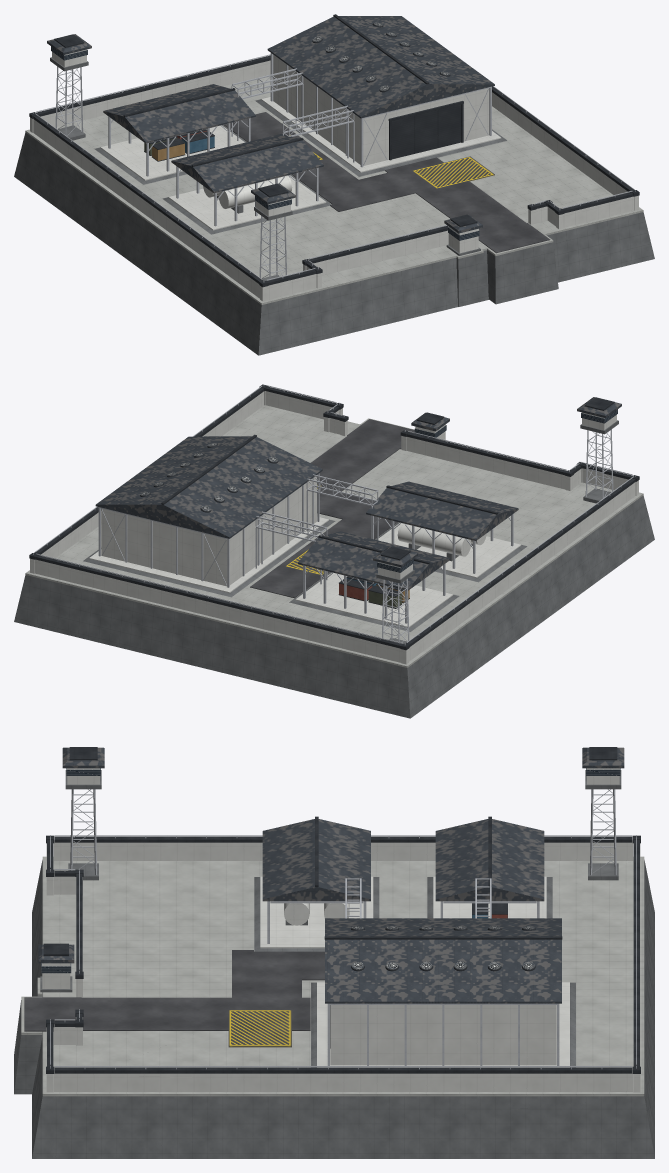
File: logistics_camp_lvl2.glb
3 views of the same model, one above another, from view 1: azimuth 30°, elevation 25°; view 2: azimuth 150°, elevation 25°; view 3: azimuth 270°, elevation 25° (orthographic). The views are drawn at different scales.
Parts seen in each view (by area): view 1: LOG_L2_ConcDark, LOG_L2_ConcLight, LOG_L2_ConcMid, LOG_L2_RoofCorr, LOG_L2_Asphalt, LOG_L2_SteelDark, LOG_L2_SteelTruss, LOG_L2_DoorCorr, LOG_L2_HatchZone, LOG_L2_WindowDark, LOG_L2_RoofVent; view 2: LOG_L2_ConcDark, LOG_L2_ConcLight, LOG_L2_RoofCorr, LOG_L2_ConcMid, LOG_L2_SteelTruss, LOG_L2_SteelDark, LOG_L2_Asphalt, LOG_L2_WindowDark, LOG_L2_RoofVent; view 3: LOG_L2_ConcMid, LOG_L2_ConcDark, LOG_L2_ConcLight, LOG_L2_RoofCorr, LOG_L2_SteelDark, LOG_L2_Asphalt, LOG_L2_SteelTruss, LOG_L2_HatchZone, LOG_L2_RoofVent, LOG_L2_WindowDark.
Part boxes in pixels (x1=…): LOG_L2_ConcDark: x1=14, y1=57, x2=654, y2=355; LOG_L2_ConcLight: x1=30, y1=49, x2=638, y2=301; LOG_L2_ConcMid: x1=25, y1=76, x2=643, y2=304; LOG_L2_RoofCorr: x1=47, y1=16, x2=494, y2=233; LOG_L2_Asphalt: x1=224, y1=112, x2=550, y2=253; LOG_L2_SteelDark: x1=29, y1=14, x2=639, y2=287; LOG_L2_SteelTruss: x1=33, y1=53, x2=635, y2=282; LOG_L2_DoorCorr: x1=391, y1=104, x2=461, y2=159; LOG_L2_HatchZone: x1=288, y1=135, x2=494, y2=188; LOG_L2_WindowDark: x1=51, y1=46, x2=479, y2=240; LOG_L2_RoofVent: x1=312, y1=22, x2=449, y2=90; LOG_L2_ConcDark: x1=14, y1=420, x2=654, y2=718; LOG_L2_ConcLight: x1=30, y1=391, x2=638, y2=664; LOG_L2_RoofCorr: x1=95, y1=397, x2=621, y2=590; LOG_L2_ConcMid: x1=25, y1=405, x2=643, y2=667; LOG_L2_SteelTruss: x1=33, y1=384, x2=635, y2=645; LOG_L2_SteelDark: x1=29, y1=384, x2=639, y2=650; LOG_L2_Asphalt: x1=250, y1=419, x2=414, y2=598; LOG_L2_WindowDark: x1=377, y1=409, x2=617, y2=572; LOG_L2_RoofVent: x1=140, y1=442, x2=277, y2=511; LOG_L2_ConcMid: x1=21, y1=856, x2=644, y2=1096; LOG_L2_ConcDark: x1=14, y1=770, x2=654, y2=1158; LOG_L2_ConcLight: x1=42, y1=768, x2=640, y2=1092; LOG_L2_RoofCorr: x1=38, y1=747, x2=624, y2=1003; LOG_L2_SteelDark: x1=43, y1=747, x2=640, y2=1073; LOG_L2_Asphalt: x1=24, y1=950, x2=324, y2=1031; LOG_L2_SteelTruss: x1=50, y1=789, x2=636, y2=1069; LOG_L2_HatchZone: x1=228, y1=1009, x2=291, y2=1047; LOG_L2_RoofVent: x1=351, y1=926, x2=534, y2=969; LOG_L2_WindowDark: x1=41, y1=768, x2=620, y2=973.
Size of the model in its own units: 87.5 by 30.04 by 96.2.
15 materials, 15 textured.
